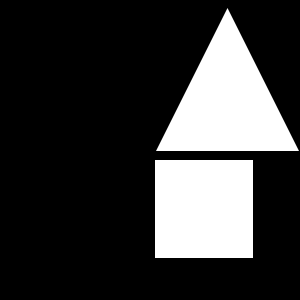circle: (155, 160, 253, 258)
triangle: (156, 8, 299, 151)
